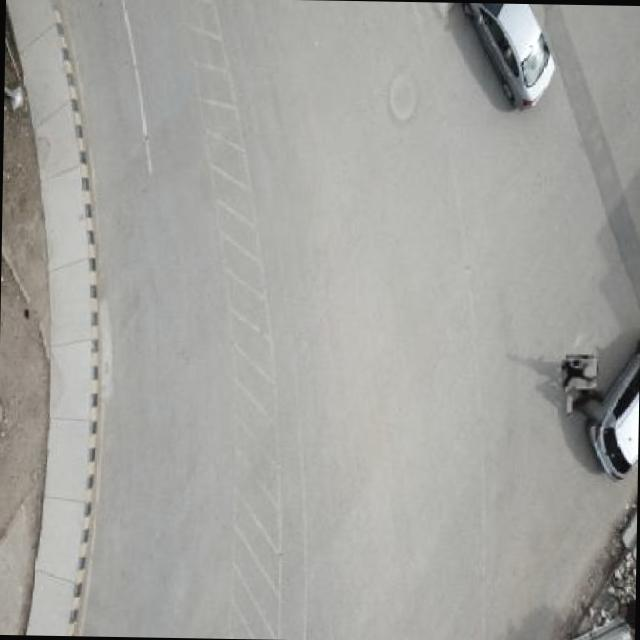Person: (567, 386, 602, 421), (562, 356, 594, 391)
